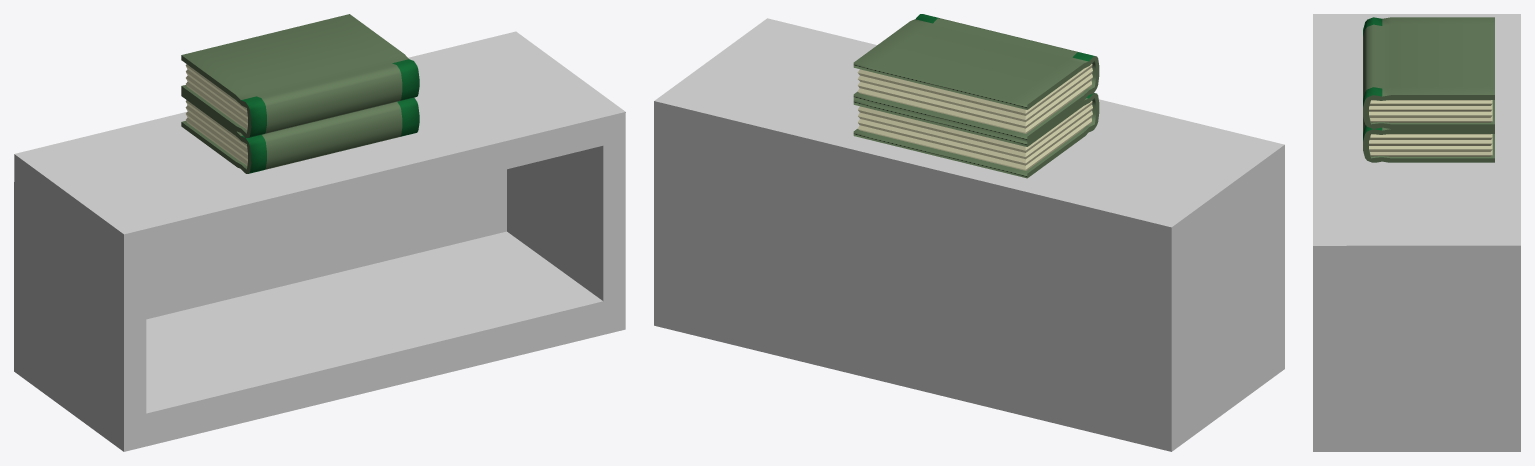
File: shelves_tier3.fbx
The picture shows the model from 3 angles, left to right: view 1: azimuth 30°, elevation 25°; view 2: azimuth 150°, elevation 25°; view 3: azimuth 270°, elevation 25°; orthographic projection. The views are drawn at different scales.
Parts seen in each view (by area): view 1: Cube, Cube.001, Cube.002; view 2: Cube, Cube.001, Cube.002; view 3: Cube, Cube.001, Cube.002.
Boxes of the visible parts, x1,y1,x2,y2 form: Cube: [14, 31, 625, 451]; Cube.001: [181, 14, 419, 137]; Cube.002: [181, 91, 419, 173]; Cube: [654, 18, 1284, 451]; Cube.001: [853, 14, 1099, 141]; Cube.002: [853, 93, 1099, 178]; Cube: [1313, 14, 1520, 451]; Cube.001: [1363, 17, 1494, 128]; Cube.002: [1363, 117, 1494, 162].
Bounding box in the file's own units: 129 × 70.99 × 48.88.
